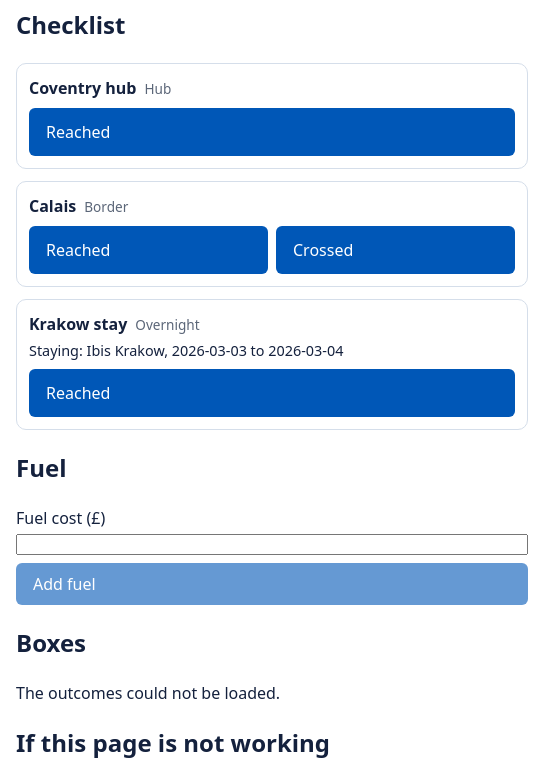
Scenario: marks a point reached and shows who entered it and when
Click the button with aria-label "Reached Coventry hub" at (78, 132), box 29,108 -> 515,156
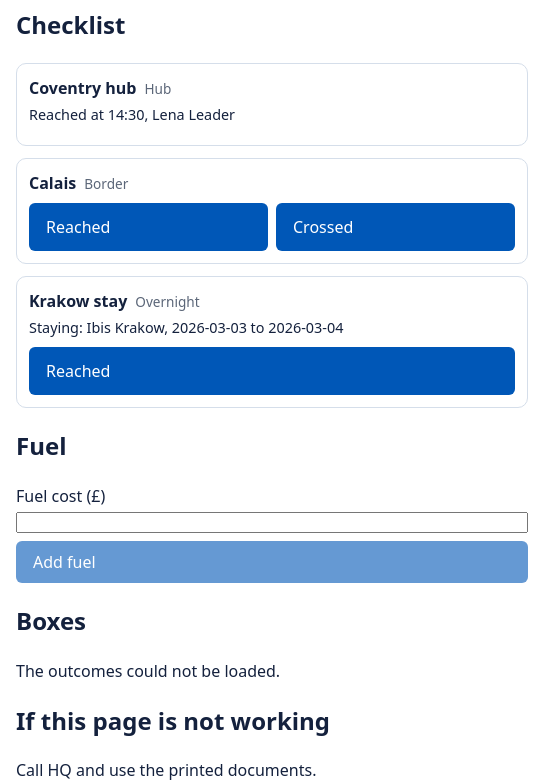
Now the list item "Reached at 14:30, Lena Leader" is shown, box 29,105 -> 235,124
